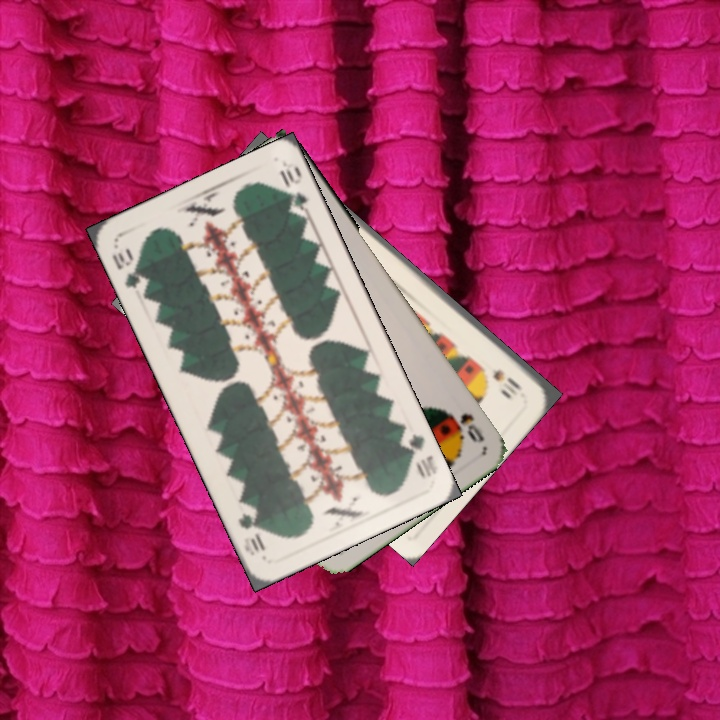G10: (396, 428, 440, 482), (108, 243, 146, 291)
S10: (489, 365, 525, 398)
SO: (445, 408, 487, 446)
